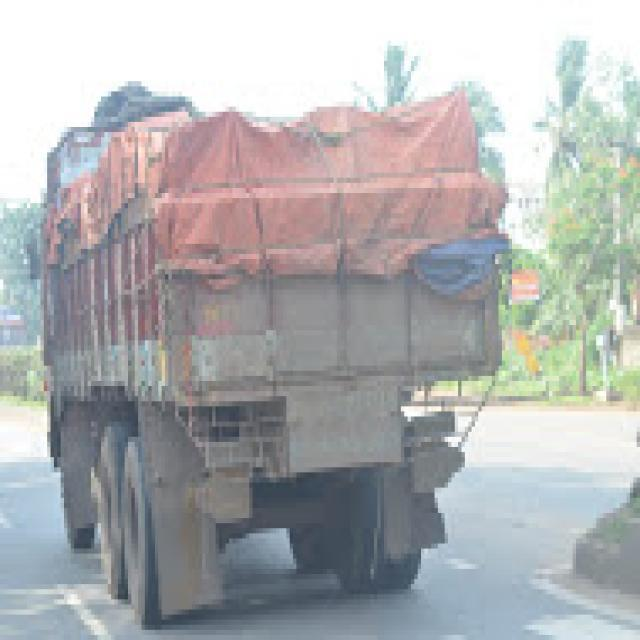truck_back: (24, 72, 516, 634)
